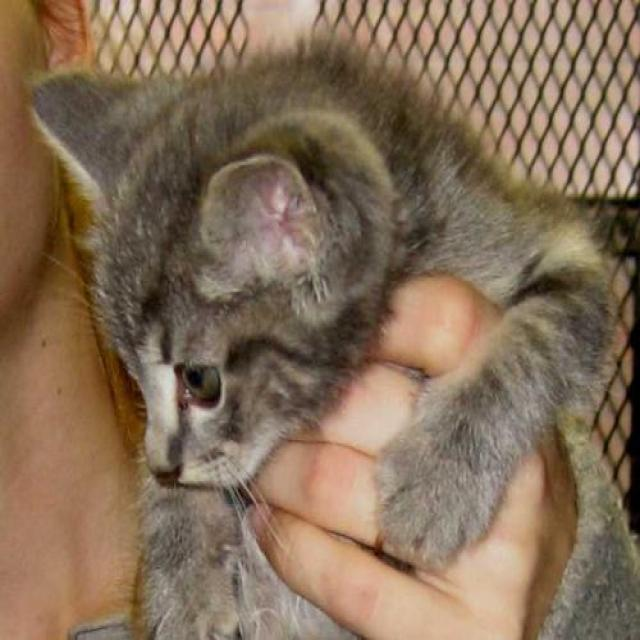Cats: (25, 24, 620, 638)
